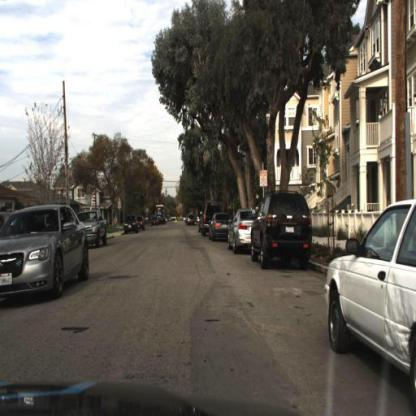car: (325, 199, 416, 416), (1, 205, 91, 305), (247, 188, 316, 269), (227, 207, 258, 258), (79, 210, 111, 251), (187, 216, 199, 229), (151, 216, 161, 228)
truck: (155, 205, 165, 223)
